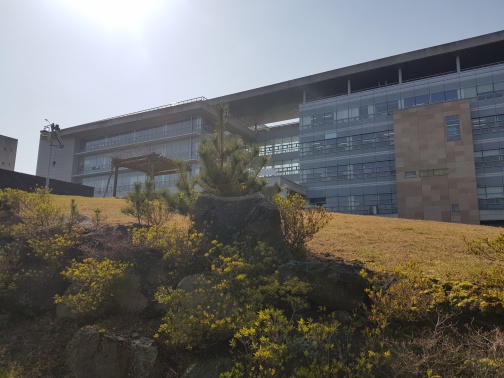Engineering College Building 4: (45, 100, 504, 194), (344, 46, 483, 225)
